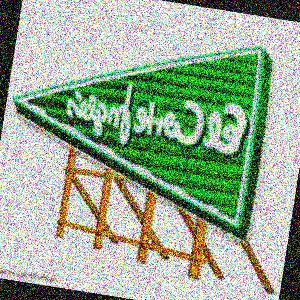corte_ingles: (223, 33, 279, 99)
